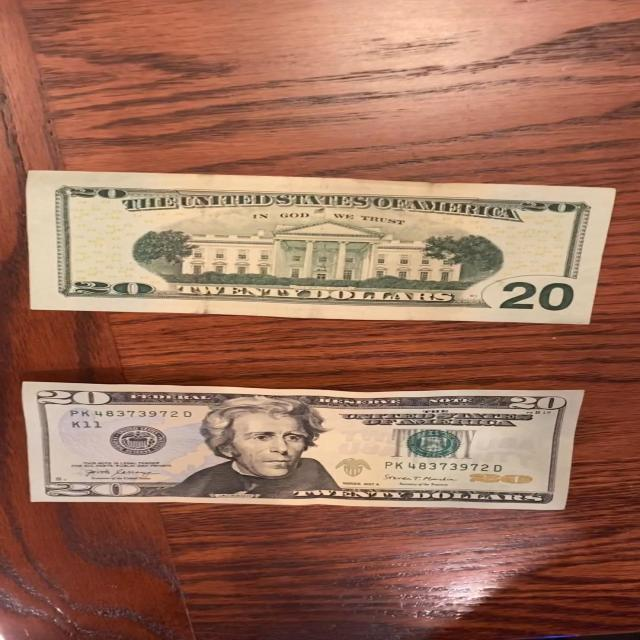20-Back: (18, 167, 623, 329)
20-Front: (18, 380, 584, 511)
